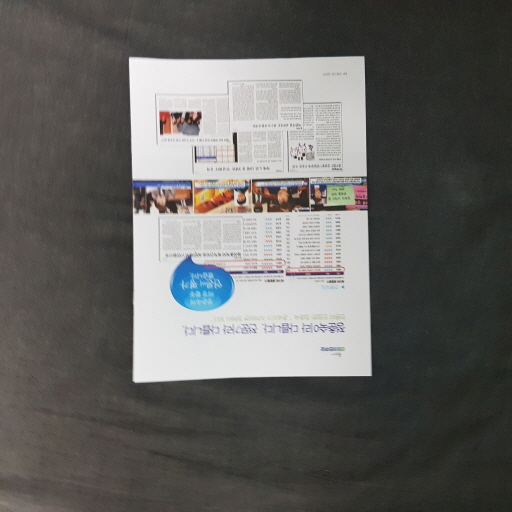Paper_2: (124, 47, 394, 400)
